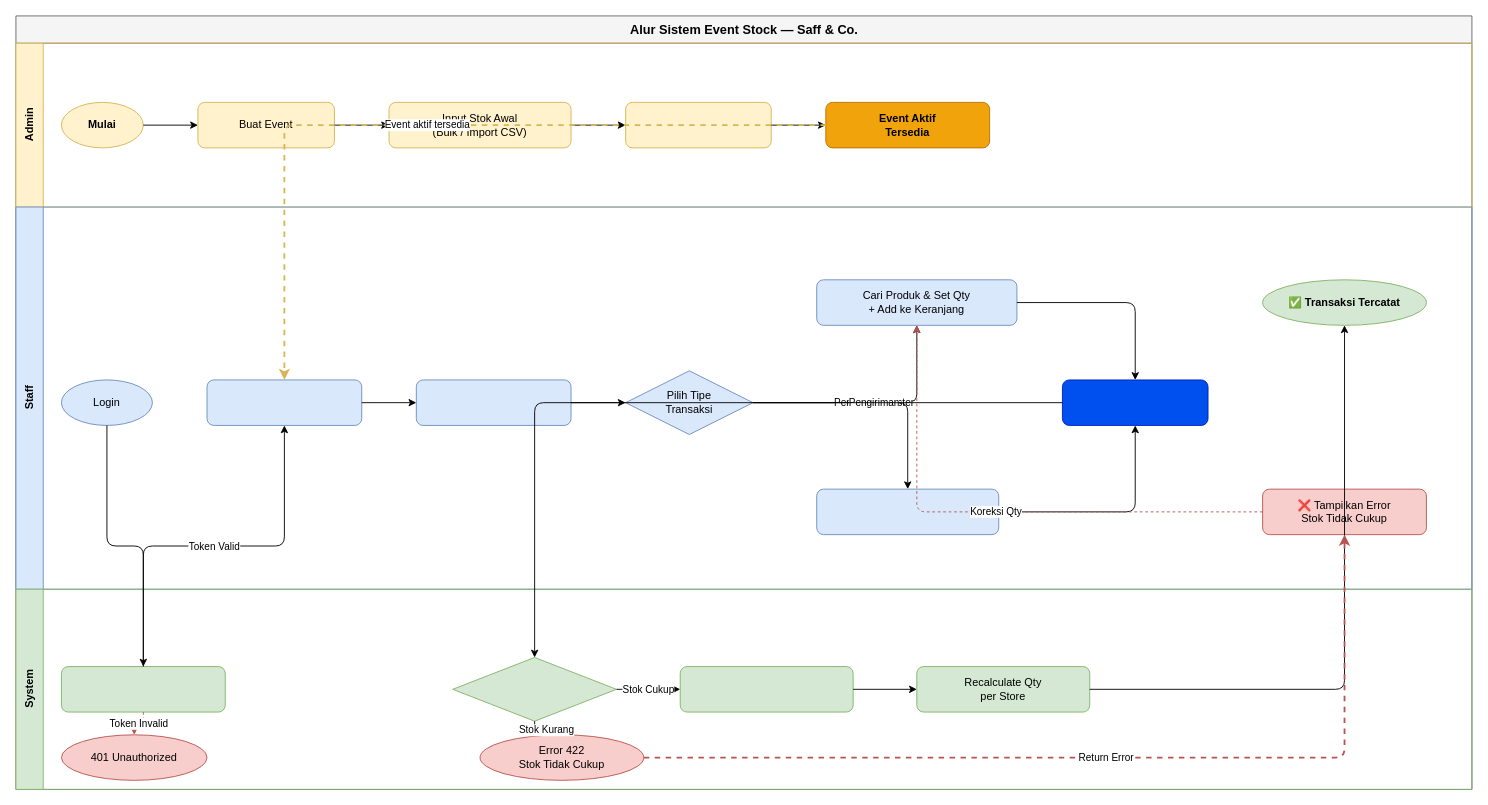
Some shapes in this 1488 by 805 pixel diagram are drawn without their labels. The centre of each missing label's shape, as x and y in pixels:
"Cek & Lock Stok (lockForUpdate)" goes at (x=534, y=689).
"Pilih Event Aktif" goes at (x=284, y=402).
"Pilih Produk & Store Tujuan" goes at (x=907, y=511).
"Pilih Store / Booth" goes at (x=493, y=402).
"Set Status → Active" goes at (x=698, y=124).
"Simpan StockLog (+ pair_id)" goes at (x=766, y=689).
"Submit Transaksi" goes at (x=1135, y=402).
"Validasi Token (Sanctum)" goes at (x=143, y=689).
